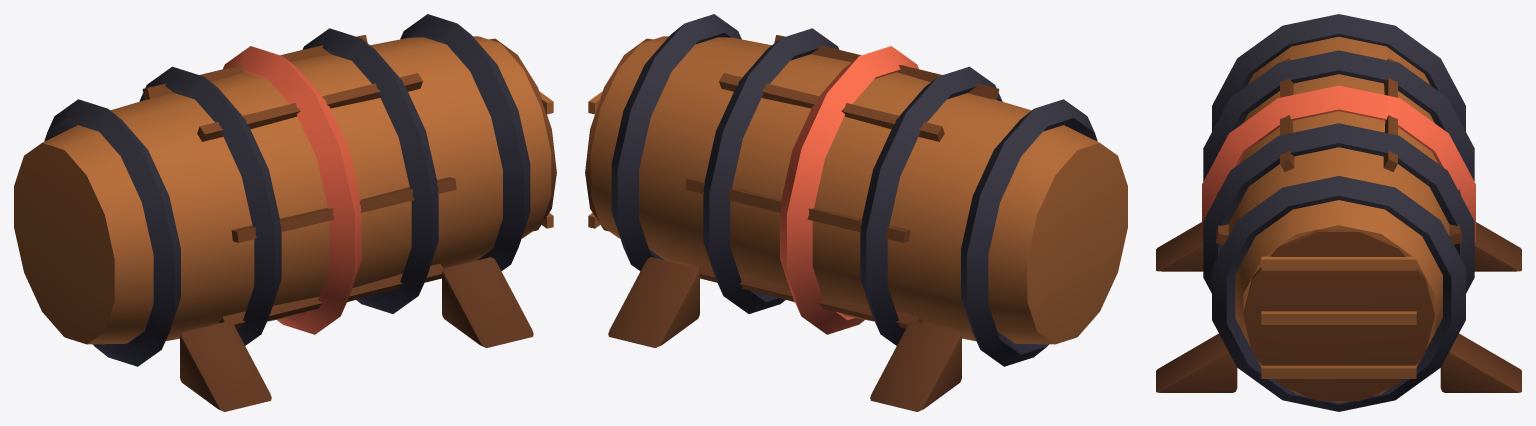
Rendered from hz_barrel.glb.
3 views of the same model, side by side, from view 1: azimuth 30°, elevation 25°; view 2: azimuth 150°, elevation 25°; view 3: azimuth 270°, elevation 25° (orthographic). The views are drawn at different scales.
Visible parts, largest first — view 1: hz_barrel; view 2: hz_barrel; view 3: hz_barrel.
Part boxes in pixels (x1,y1,x2,y2): hz_barrel: (14,14,556,411); hz_barrel: (585,14,1127,411); hz_barrel: (1156,14,1521,411).
Bounding box in the file's own units: 0.821 × 0.47 × 0.6114.
